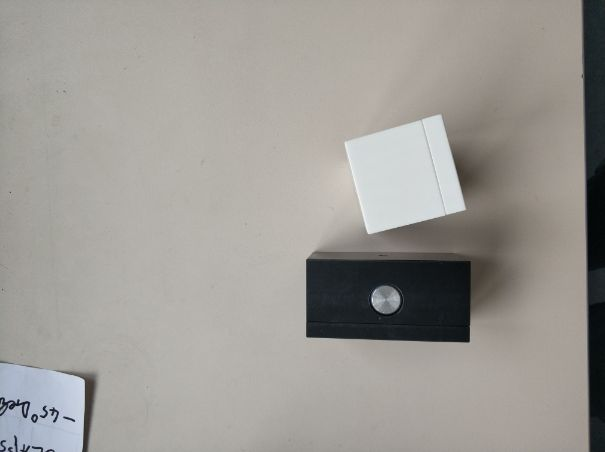black+black+silver: (302, 247, 474, 345)
